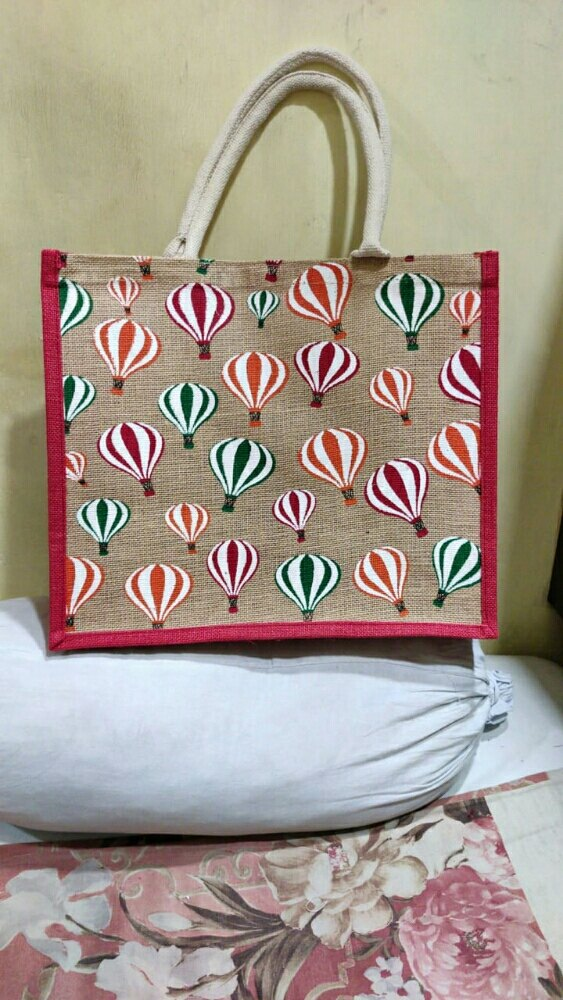jutebag: (38, 40, 500, 653)
